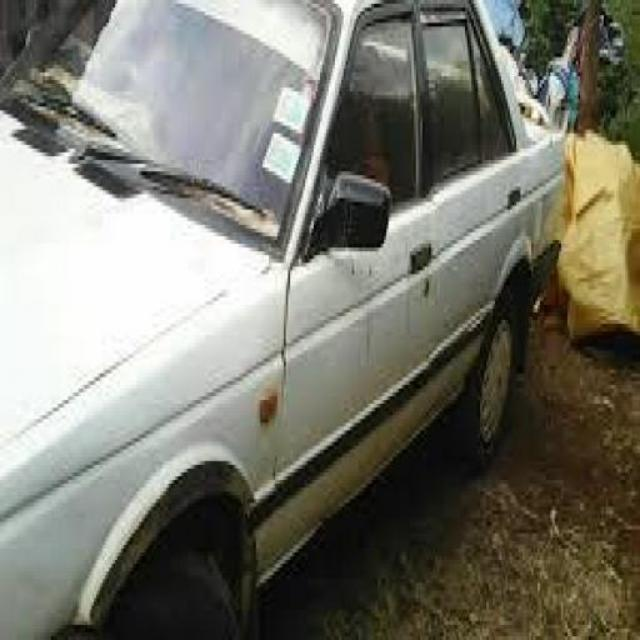scratch: (349, 252, 425, 375)
